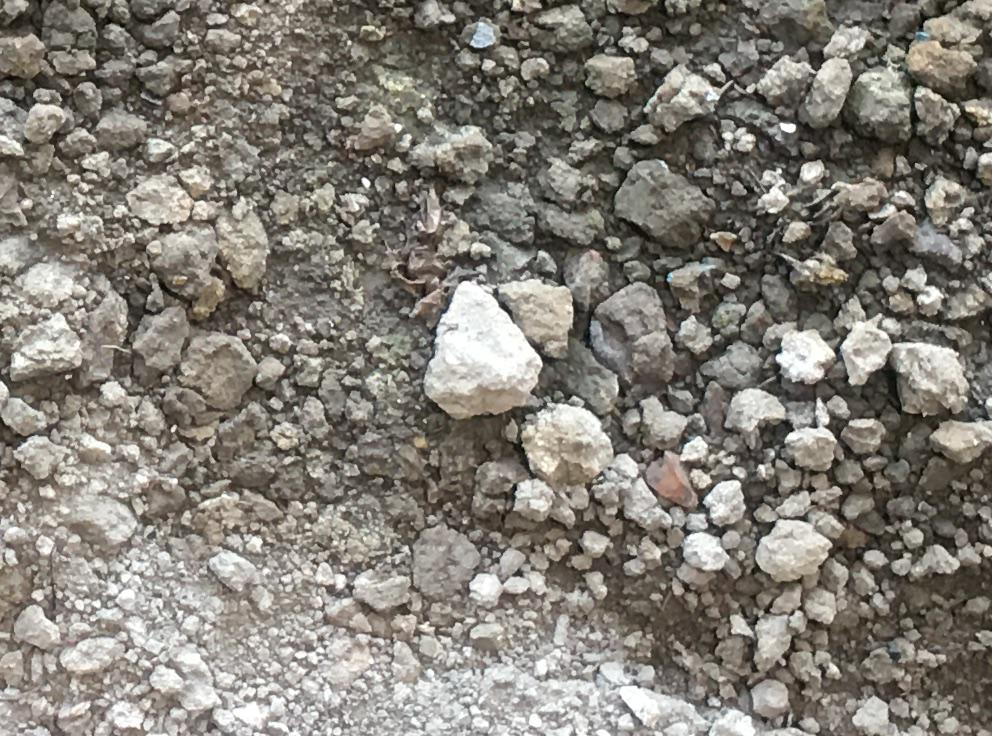block: (420, 278, 537, 417), (515, 406, 614, 486)
